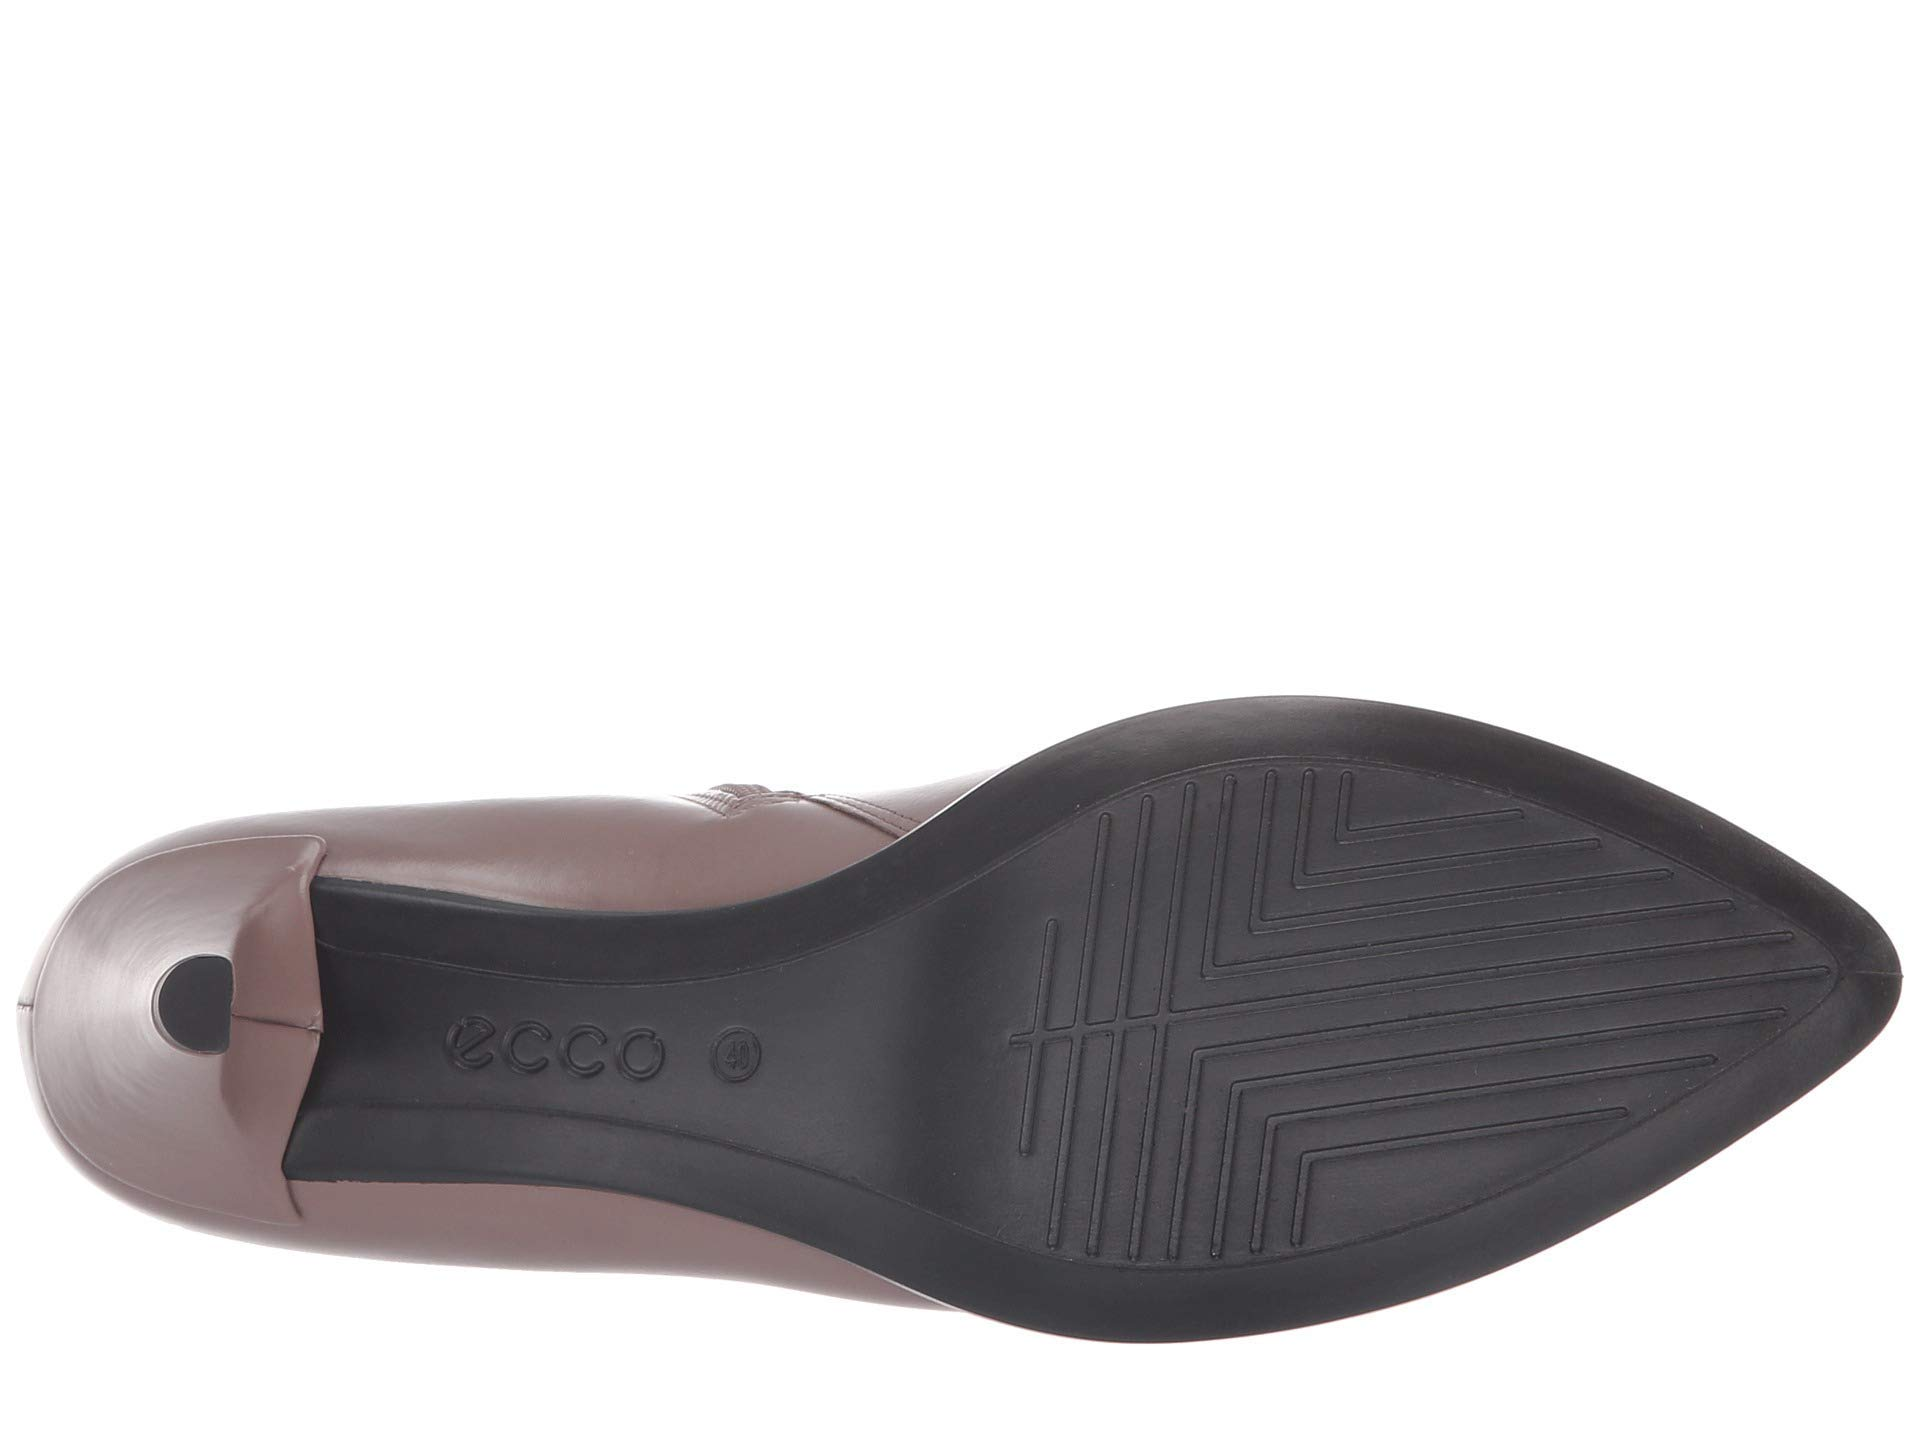chevron: (1141, 846, 1427, 1199)
